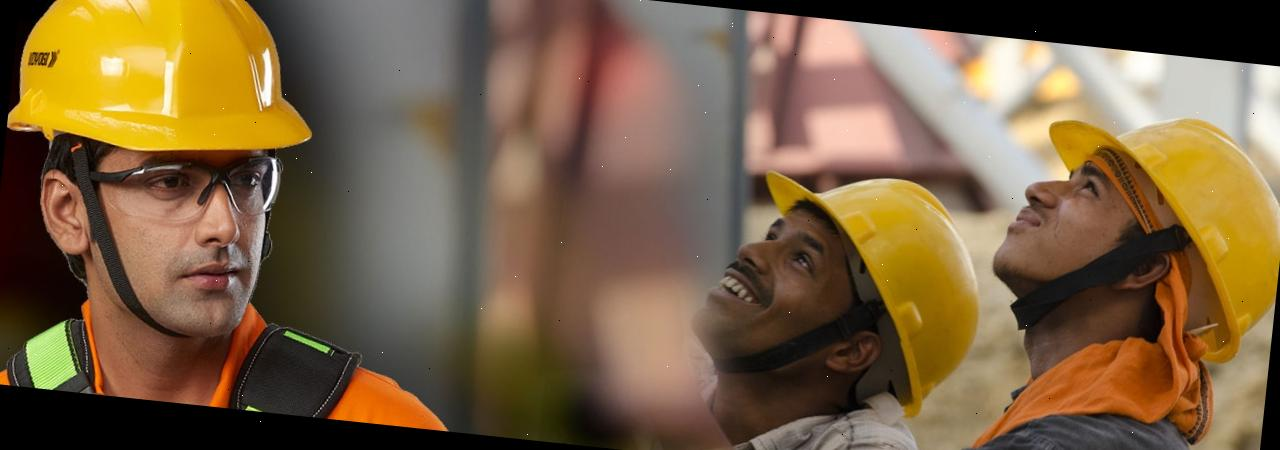helmet: (736, 156, 1000, 425), (1022, 100, 1280, 367), (6, 0, 340, 166)
